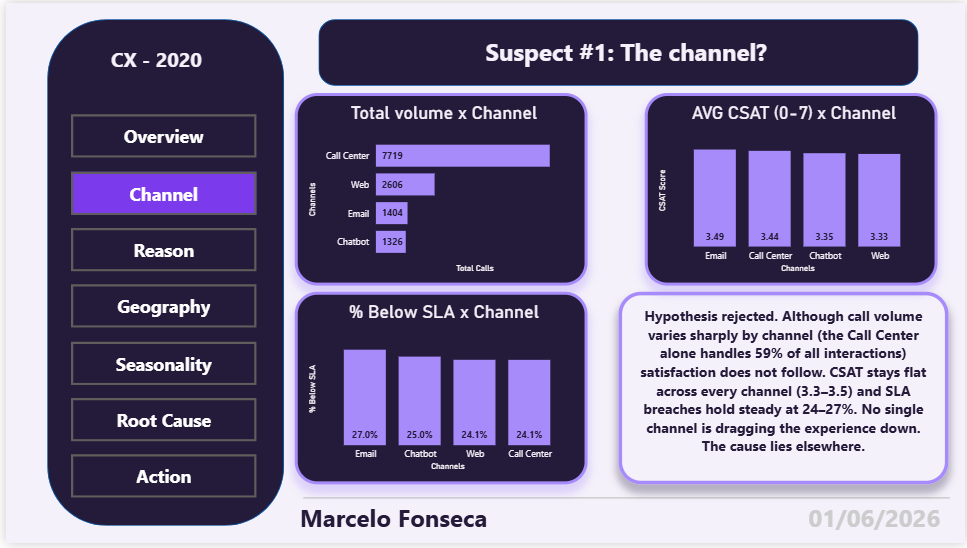

This screenshot's page, from the dashboard's own definition file:
{"tool":"powerbi","page":{"name":"Channel","canvas":[1280,720],"ordinal":2},"visuals":[{"type":"shape","box":[54.4,21.1,315.8,675.4],"z":0},{"type":"textbox","box":[135.5,50.9,149.1,57.9],"z":1000},{"type":"shape","box":[417.1,21.4,800,88.6],"z":2000},{"type":"textbox","box":[448.6,38.6,757.1,71.4],"z":3000},{"type":"shape","box":[396.5,629.8,861.4,59.6],"z":4000},{"type":"textbox","box":[386,659.6,300,59.6],"z":5000},{"type":"textbox","box":[1064.9,659.6,193,59.6],"z":6000},{"type":"actionButton","title":"Overview","box":[86.4,149.1,247.4,57.9],"z":7000},{"type":"actionButton","box":[86.4,224.6,247.4,57.9],"z":8000},{"type":"actionButton","box":[86.4,300,247.4,57.9],"z":9000},{"type":"actionButton","box":[86.4,375.4,247.4,57.9],"z":10000},{"type":"actionButton","box":[86.4,450.9,247.4,57.9],"z":11000},{"type":"actionButton","box":[86.4,526.3,247.4,57.9],"z":12000},{"type":"actionButton","box":[86.4,601.8,247.4,57.9],"z":13000},{"type":"clusteredBarChart","title":"Total volume x Channel","fields":{"Category":["Channel.Channel Description"],"Y":["Call Center Data.Total Calls"]},"box":[385.7,120.4,390,257.1],"z":13001},{"type":"columnChart","title":"AVG CSAT (0-7) x Channel","fields":{"Y":["Call Center Data.Avg CSAT"],"Category":["Channel.Channel Description"]},"box":[851.4,120.4,390,257.1],"z":13002},{"type":"columnChart","title":"% Below SLA x Channel","fields":{"Category":["Channel.Channel Description"],"Y":["Call Center Data.% Below SLA"]},"box":[385.7,385.7,390,257],"z":13003},{"type":"textbox","box":[817.1,385.7,440,257.1],"z":13004}]}

Visuals, with their boxes in screenshot pixels (x1, y1, x2, y2), scaled from the page's 1280x720 canvas onto the 967x548 screenshot:
shape: region(41, 16, 280, 530)
textbox: region(102, 39, 215, 83)
shape: region(315, 16, 919, 84)
textbox: region(339, 29, 911, 84)
shape: region(300, 479, 950, 525)
textbox: region(292, 502, 518, 547)
textbox: region(804, 502, 950, 547)
"Overview" actionButton: region(65, 113, 252, 158)
actionButton: region(65, 171, 252, 215)
actionButton: region(65, 228, 252, 272)
actionButton: region(65, 286, 252, 330)
actionButton: region(65, 343, 252, 387)
actionButton: region(65, 401, 252, 445)
actionButton: region(65, 458, 252, 502)
"Total volume x Channel" clusteredBarChart: region(291, 92, 586, 287)
"AVG CSAT (0-7) x Channel" columnChart: region(643, 92, 938, 287)
"% Below SLA x Channel" columnChart: region(291, 294, 586, 489)
textbox: region(617, 294, 950, 489)
